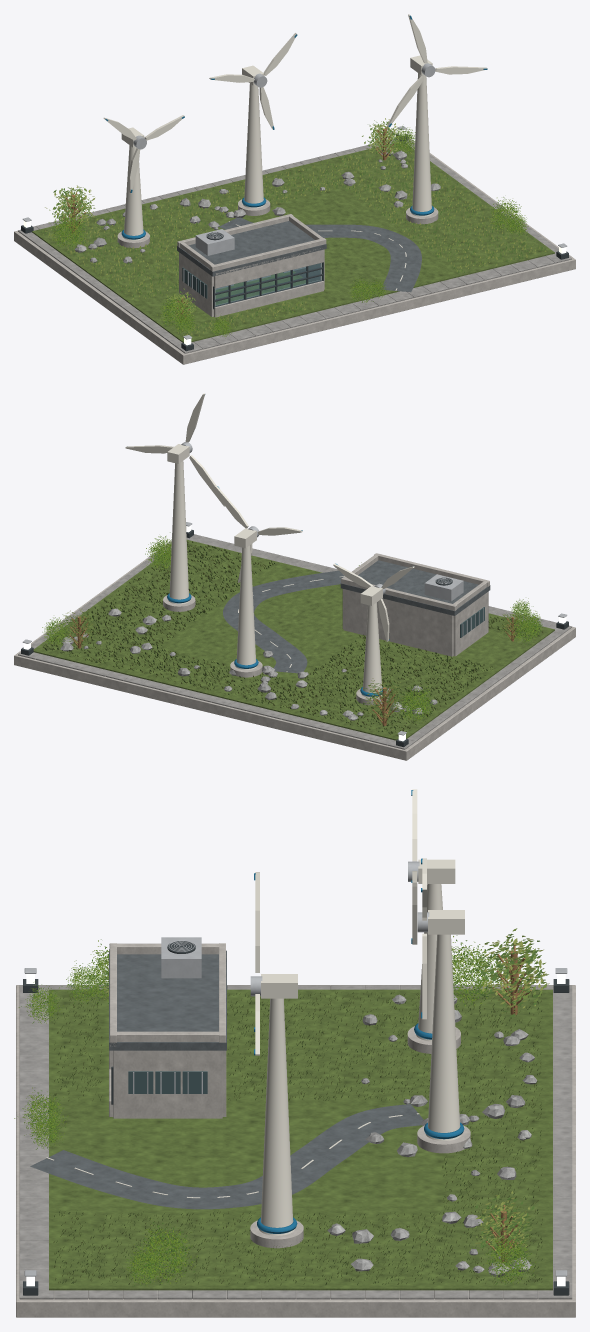
File: parque_eolico.fbx
3 renders of one model, top to bottom at view 1: azimuth 30°, elevation 25°; view 2: azimuth 150°, elevation 25°; view 3: azimuth 270°, elevation 25°, orthographic. The views are drawn at different scales.
Visible parts, largest first — view 1: Solar · Hierba de parcela, Solar · Loseta mineral, Solar · Prefabricado caliza, Estación de servicio · Prefabricado caliza, Jardinería de la parcela · Hojas 2, Jardinería de la parcela · Hojas 0, Jardinería de la parcela · Hojas 1, Aerogenerador 3 · Esmalte marfil, Camino de servicio · Membrana bituminosa, Estación de servicio · Membrana bituminosa, Aerogenerador 2 · Esmalte marfil, Aerogenerador 1 · Esmalte marfil (+8 smaller); view 2: Solar · Hierba de parcela, Estación de servicio · Prefabricado caliza, Solar · Prefabricado caliza, Solar · Loseta mineral, Aerogenerador 3 · Esmalte marfil, Jardinería de la parcela · Hojas 1, Camino de servicio · Membrana bituminosa, Jardinería de la parcela · Hojas 2, Jardinería de la parcela · Hojas 0, Aerogenerador 2 · Esmalte marfil, Aerogenerador 1 · Esmalte marfil, Estación de servicio · Membrana bituminosa (+7 smaller); view 3: Solar · Hierba de parcela, Solar · Loseta mineral, Solar · Prefabricado caliza, Camino de servicio · Membrana bituminosa, Estación de servicio · Prefabricado caliza, Estación de servicio · Membrana bituminosa, Aerogenerador 3 · Esmalte marfil, Aerogenerador 2 · Esmalte marfil, Aerogenerador 3 · Árido gris, Jardinería de la parcela · Hojas 2, Jardinería de la parcela · Hojas 0, Jardinería de la parcela · Hojas 1 (+15 smaller).
Boxes of the visible parts, <box> form: Solar · Hierba de parcela: <box>32,141,554,342</box>; Solar · Loseta mineral: <box>18,139,571,353</box>; Solar · Prefabricado caliza: <box>14,138,575,364</box>; Estación de servicio · Prefabricado caliza: <box>177,214,326,317</box>; Jardinería de la parcela · Hojas 2: <box>45,118,546,336</box>; Jardinería de la parcela · Hojas 0: <box>41,121,545,333</box>; Jardinería de la parcela · Hojas 1: <box>42,121,544,337</box>; Aerogenerador 3 · Esmalte marfil: <box>387,14,487,216</box>; Camino de servicio · Membrana bituminosa: <box>218,217,421,292</box>; Estación de servicio · Membrana bituminosa: <box>177,221,326,276</box>; Aerogenerador 2 · Esmalte marfil: <box>209,33,297,208</box>; Aerogenerador 1 · Esmalte marfil: <box>103,115,184,240</box>; Solar · Hierba de parcela: <box>33,539,554,740</box>; Estación de servicio · Prefabricado caliza: <box>341,553,489,656</box>; Solar · Prefabricado caliza: <box>14,540,575,760</box>; Solar · Loseta mineral: <box>18,534,571,749</box>; Aerogenerador 3 · Esmalte marfil: <box>125,393,224,604</box>; Jardinería de la parcela · Hojas 1: <box>44,541,539,736</box>; Camino de servicio · Membrana bituminosa: <box>223,570,344,673</box>; Jardinería de la parcela · Hojas 2: <box>42,541,542,735</box>; Jardinería de la parcela · Hojas 0: <box>45,543,528,733</box>; Aerogenerador 2 · Esmalte marfil: <box>215,486,302,669</box>; Aerogenerador 1 · Esmalte marfil: <box>333,563,414,697</box>; Estación de servicio · Membrana bituminosa: <box>340,560,490,615</box>; Solar · Hierba de parcela: <box>49,989,552,1290</box>; Solar · Loseta mineral: <box>19,985,572,1299</box>; Solar · Prefabricado caliza: <box>16,985,575,1317</box>; Camino de servicio · Membrana bituminosa: <box>30,1104,423,1209</box>; Estación de servicio · Prefabricado caliza: <box>109,943,226,1118</box>; Estación de servicio · Membrana bituminosa: <box>109,950,226,1050</box>; Aerogenerador 3 · Esmalte marfil: <box>255,872,297,1235</box>; Aerogenerador 2 · Esmalte marfil: <box>422,858,464,1140</box>; Aerogenerador 3 · Árido gris: <box>327,994,537,1277</box>; Jardinería de la parcela · Hojas 2: <box>53,935,549,1284</box>; Jardinería de la parcela · Hojas 0: <box>53,934,545,1284</box>; Jardinería de la parcela · Hojas 1: <box>54,928,548,1285</box>.
Bounding box in the file's own units: 15.4 × 8.39 × 11.54.
Materials: 21 (7 with a texture image).
